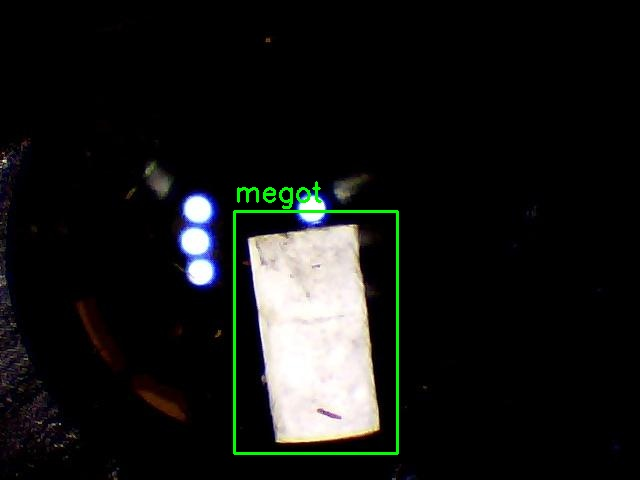megot: (234, 211, 397, 453)
